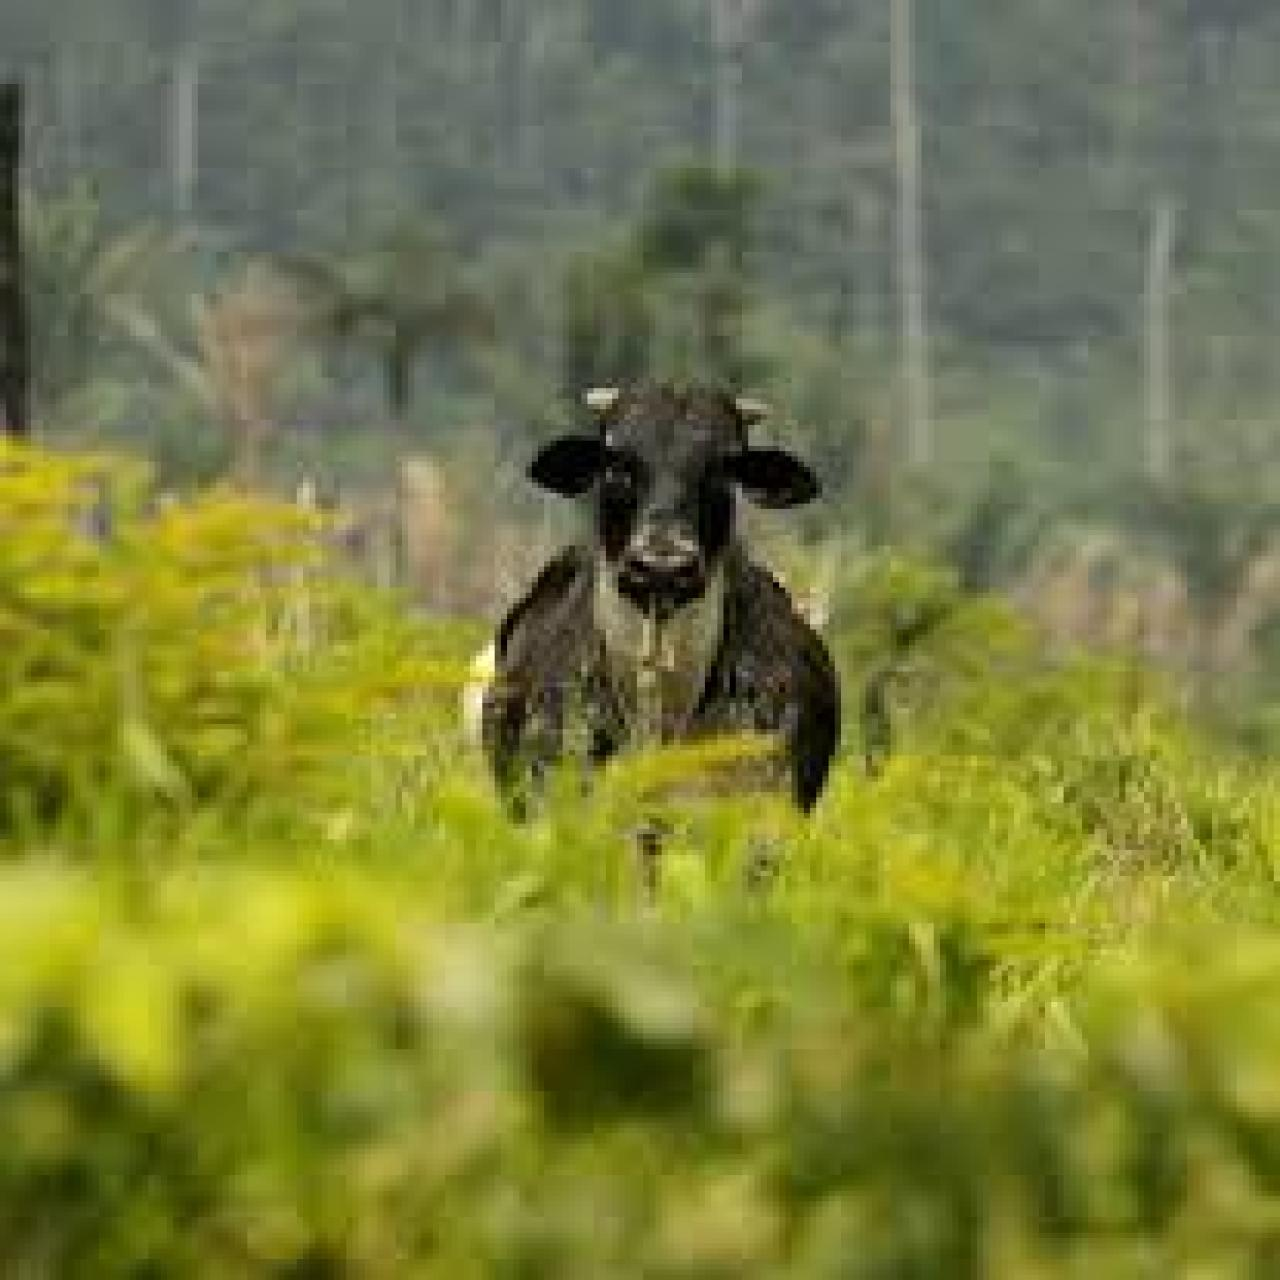cow: (479, 383, 838, 818)
